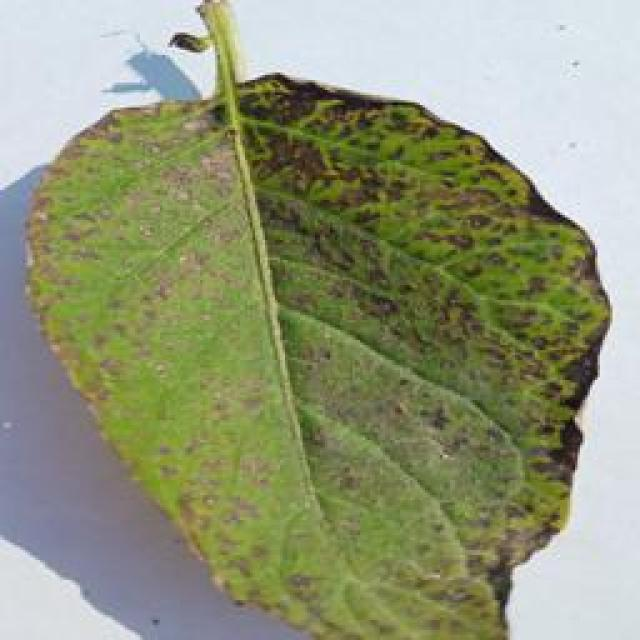Potato_Early_Blight: (27, 70, 615, 640)
